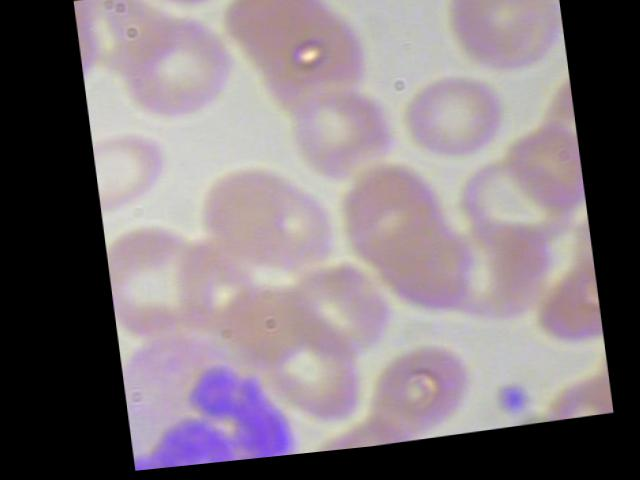Platelets: (480, 387, 524, 429)
Red Blood Cells: (117, 5, 244, 144), (99, 216, 213, 351), (426, 219, 547, 345), (278, 81, 404, 192), (429, 0, 566, 96), (281, 263, 394, 376), (392, 73, 506, 178), (358, 348, 470, 452), (87, 118, 173, 226), (280, 409, 408, 459)
White Blood Cells: (110, 325, 298, 472)
